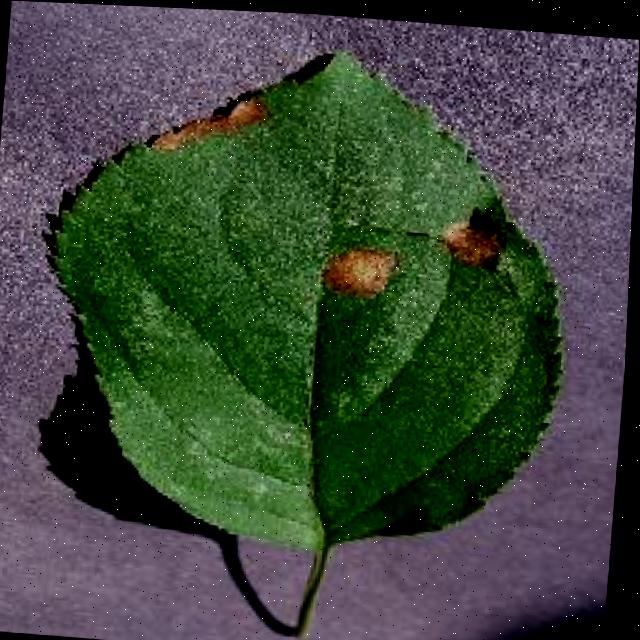black_rot: (138, 76, 285, 178), (299, 232, 403, 315), (430, 208, 511, 283)
